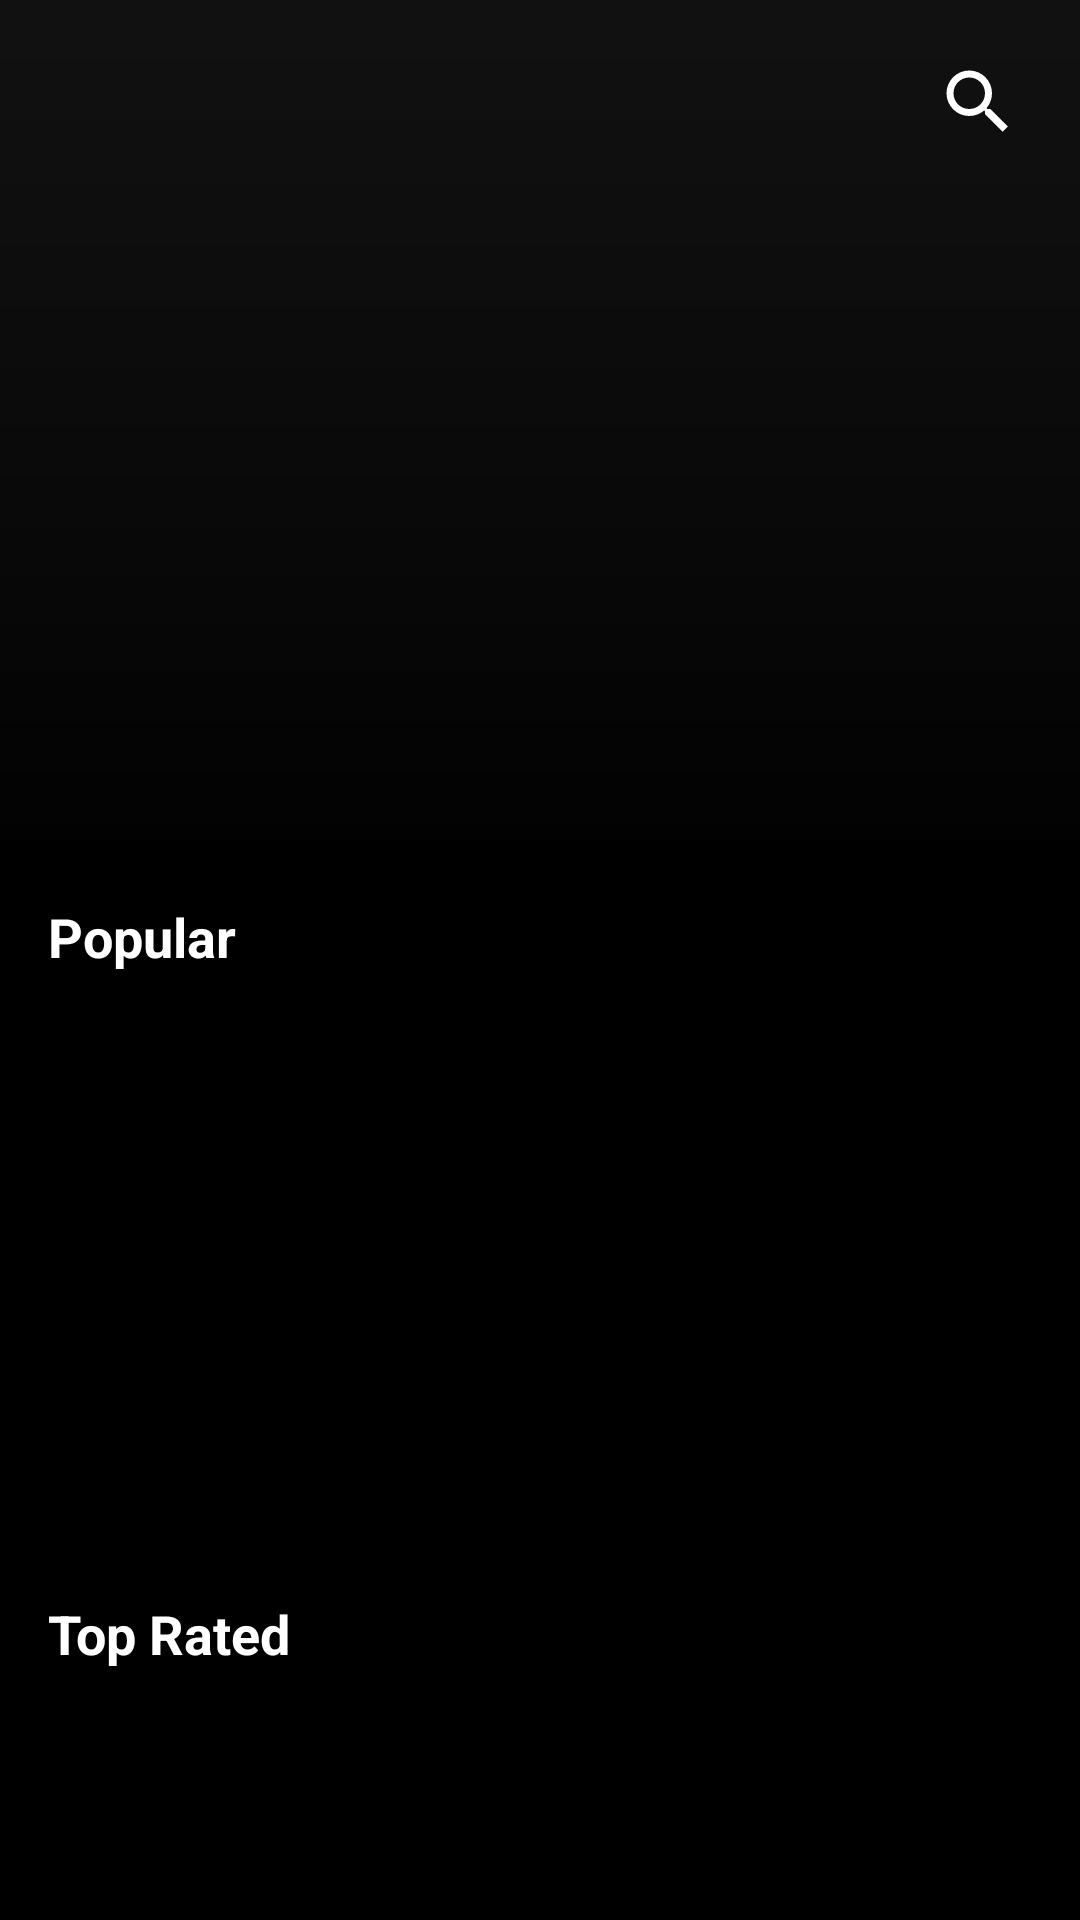

Point at icon controls on the screen. Image size 1080px x 1920px, points as point (x, y).
Search movies: point (977, 101)
